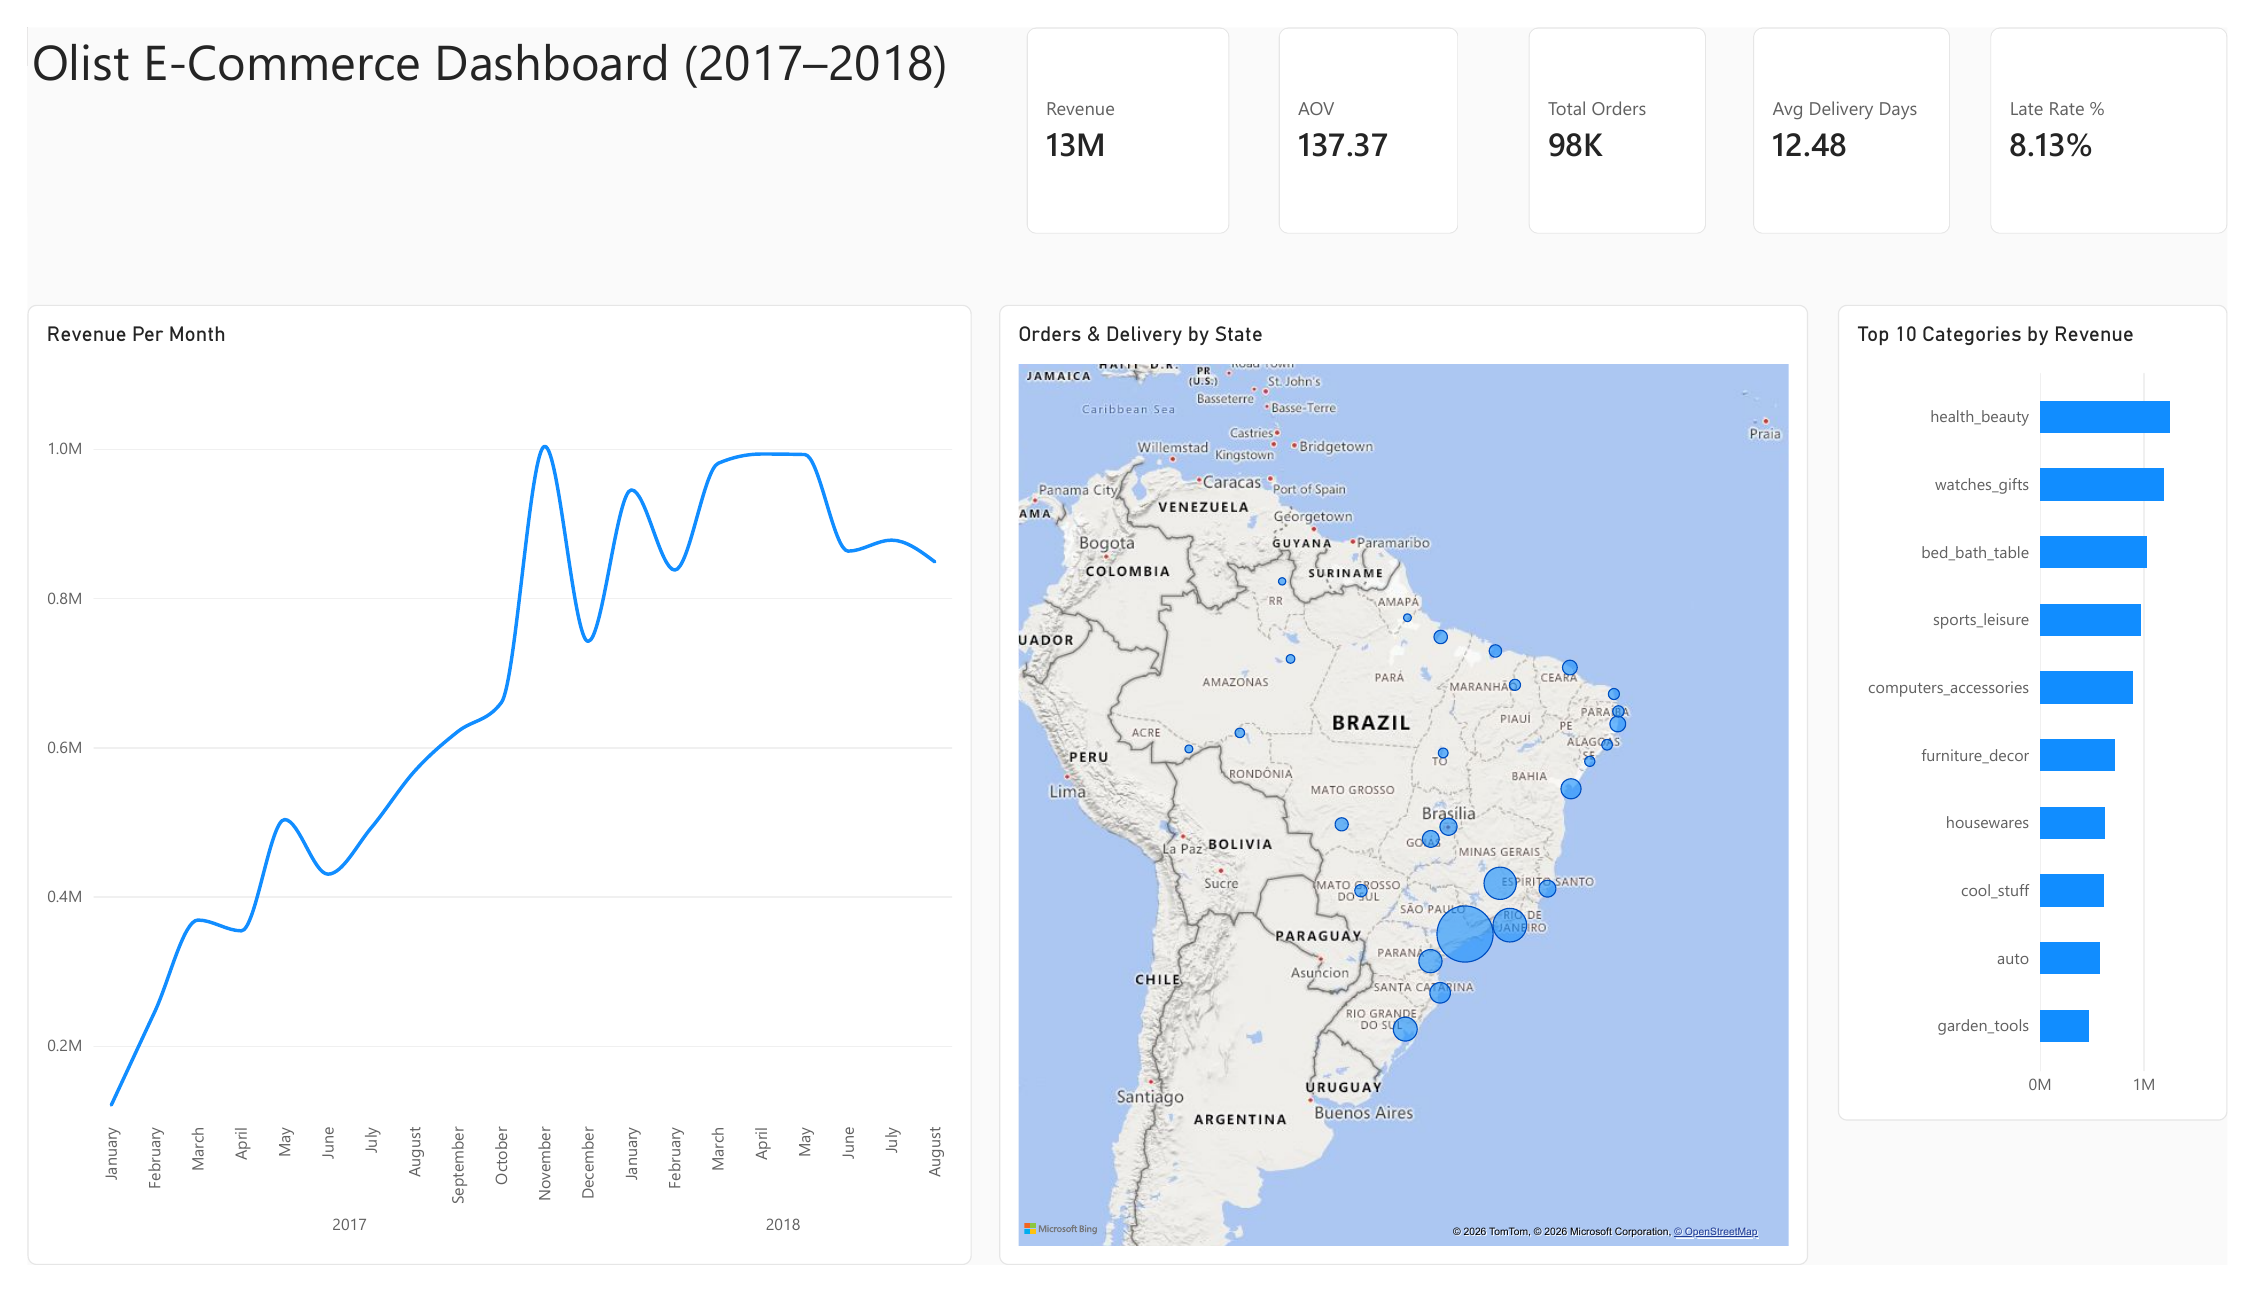

The dashboard page shown, as its layout file describes it:
{"tool":"powerbi","page":{"name":"Page 1","canvas":[1920,1080],"ordinal":0},"visuals":[{"type":"cardVisual","fields":{"Data":["fact_order_items.Total Orders"]},"box":[1310,0,155,180],"z":0},{"type":"cardVisual","fields":{"Data":["fact_order_items.Revenue"]},"box":[872,0,177.5,180],"z":1000},{"type":"cardVisual","fields":{"Data":["fact_order_items.AOV"]},"box":[1092,0,157.5,180],"z":2000},{"type":"cardVisual","fields":{"Data":["fact_order_items.Avg Delivery Days"]},"box":[1506,0,172.5,180],"z":3000},{"type":"cardVisual","fields":{"Data":["fact_order_items.Late Rate %"]},"box":[1713.3,0,207.5,180],"z":4000},{"type":"lineChart","title":"Revenue Per Month","fields":{"Category":["dim_date.year Hierarchy.year","dim_date.year Hierarchy.month_name"],"Y":["fact_order_items.Revenue"]},"box":[0,242,824,838],"z":5000},{"type":"clusteredBarChart","title":"Top 10 Categories  by Revenue","fields":{"Category":["dim_product.category"],"Y":["fact_order_items.Revenue"]},"box":[1580,242,340,712],"z":6000},{"type":"map","title":"Orders & Delivery by State","fields":{"Category":["dim_customer.map_location"],"Size":["fact_order_items.Total Orders"]},"box":[848,242,706,838],"z":7000},{"type":"textbox","box":[4,0,820,222],"z":7001}]}

Visuals, with their boxes in screenshot pixels (x1, y1, x2, y2), scaled from the page's 1920x1080 canvas onto the 2255x1293 screenshot:
cardVisual - fact_order_items.Total Orders: rect(1539, 0, 1721, 216)
cardVisual - fact_order_items.Revenue: rect(1024, 0, 1233, 216)
cardVisual - fact_order_items.AOV: rect(1283, 0, 1468, 216)
cardVisual - fact_order_items.Avg Delivery Days: rect(1769, 0, 1971, 216)
cardVisual - fact_order_items.Late Rate %: rect(2012, 0, 2254, 216)
"Revenue Per Month" lineChart: rect(0, 290, 968, 1292)
"Top 10 Categories  by Revenue" clusteredBarChart: rect(1856, 290, 2254, 1142)
"Orders & Delivery by State" map: rect(996, 290, 1825, 1292)
textbox: rect(5, 0, 968, 266)
